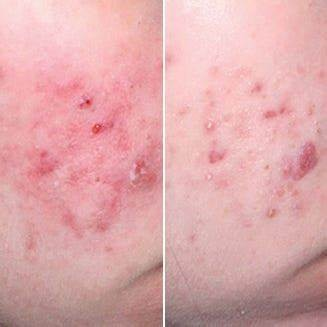Acne: (120, 157, 155, 188), (199, 161, 221, 196), (72, 87, 97, 112), (88, 115, 106, 145), (261, 201, 281, 226), (196, 113, 215, 135)
